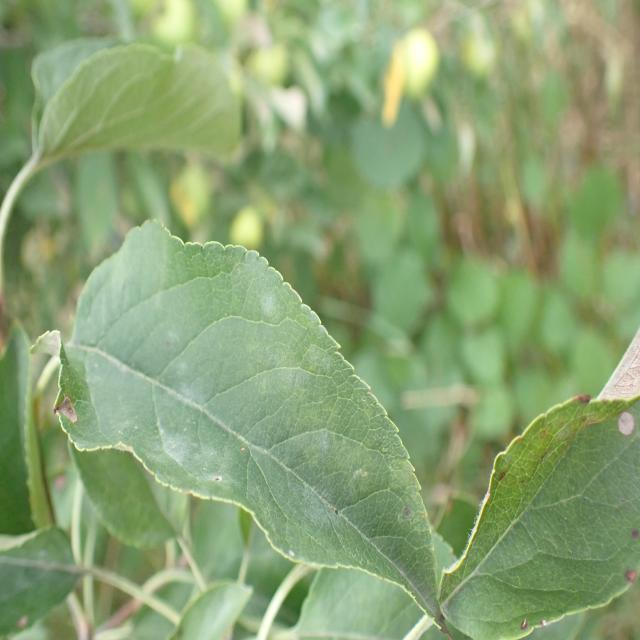Black Rot: (599, 396, 640, 451), (572, 364, 601, 429), (608, 555, 640, 598), (488, 448, 512, 496), (626, 514, 640, 560)
Powdery_mildew: (79, 236, 384, 573)
